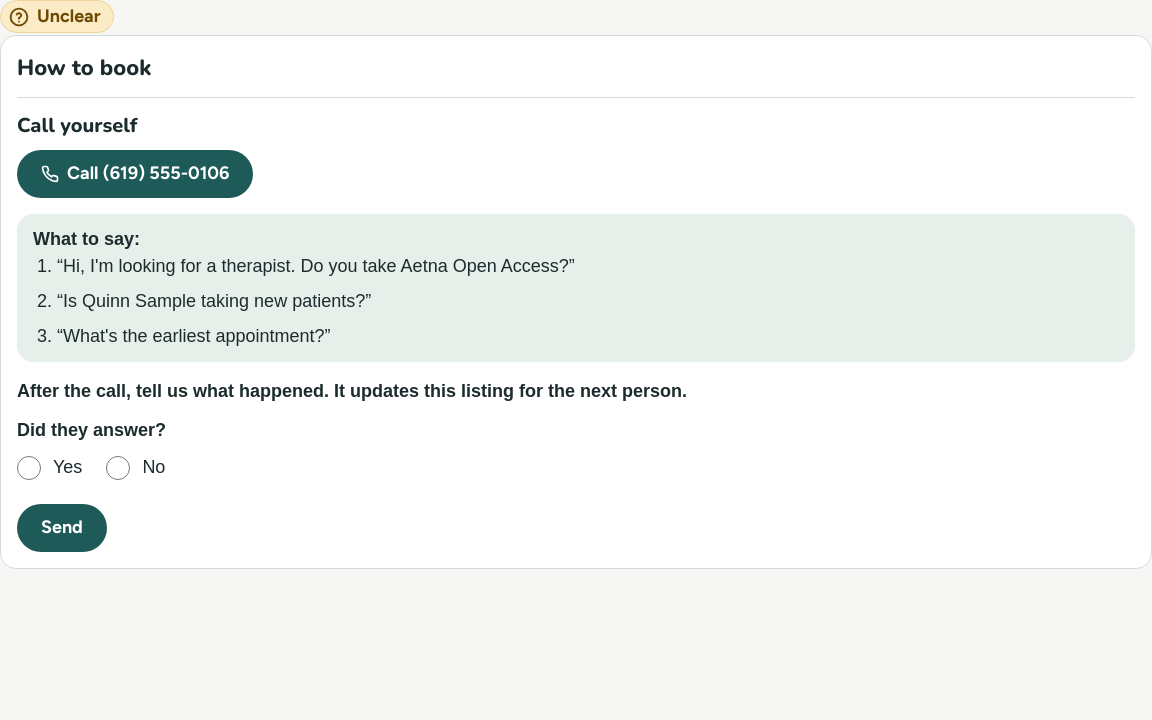
it: asks to wait after a second report inside a minute
Click the radio button labelled "No": (118, 468) [106,456,130,480]
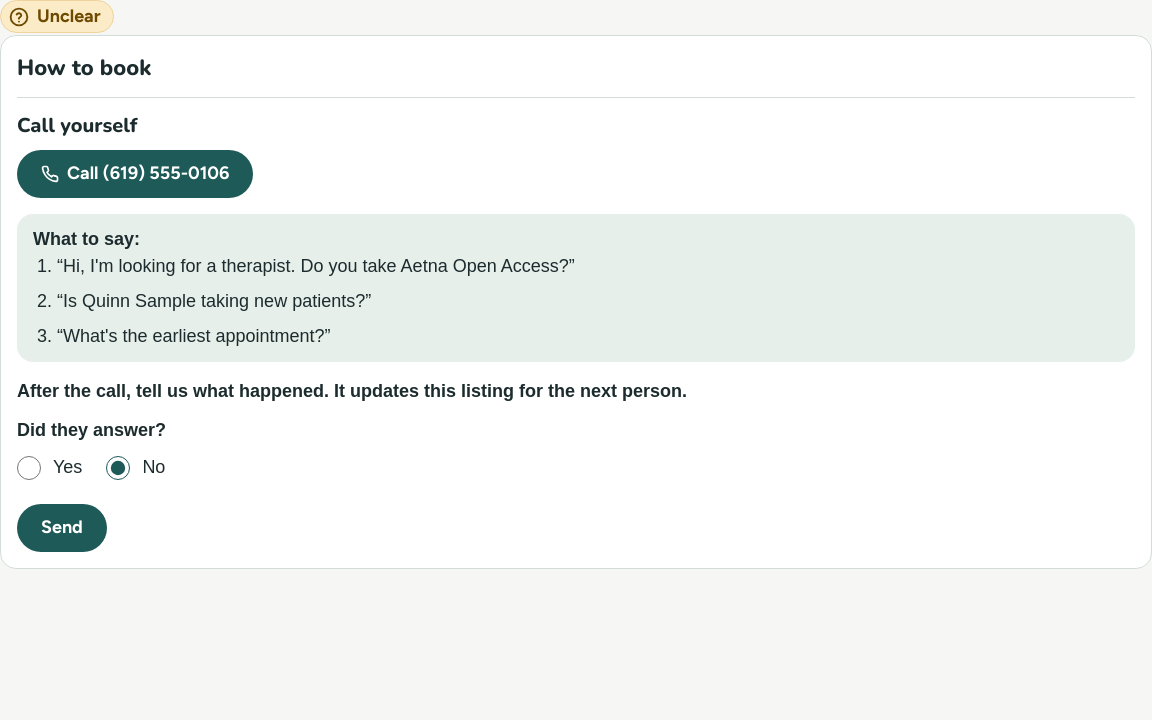
Click the button "Send": (62, 528) [17,504,107,552]
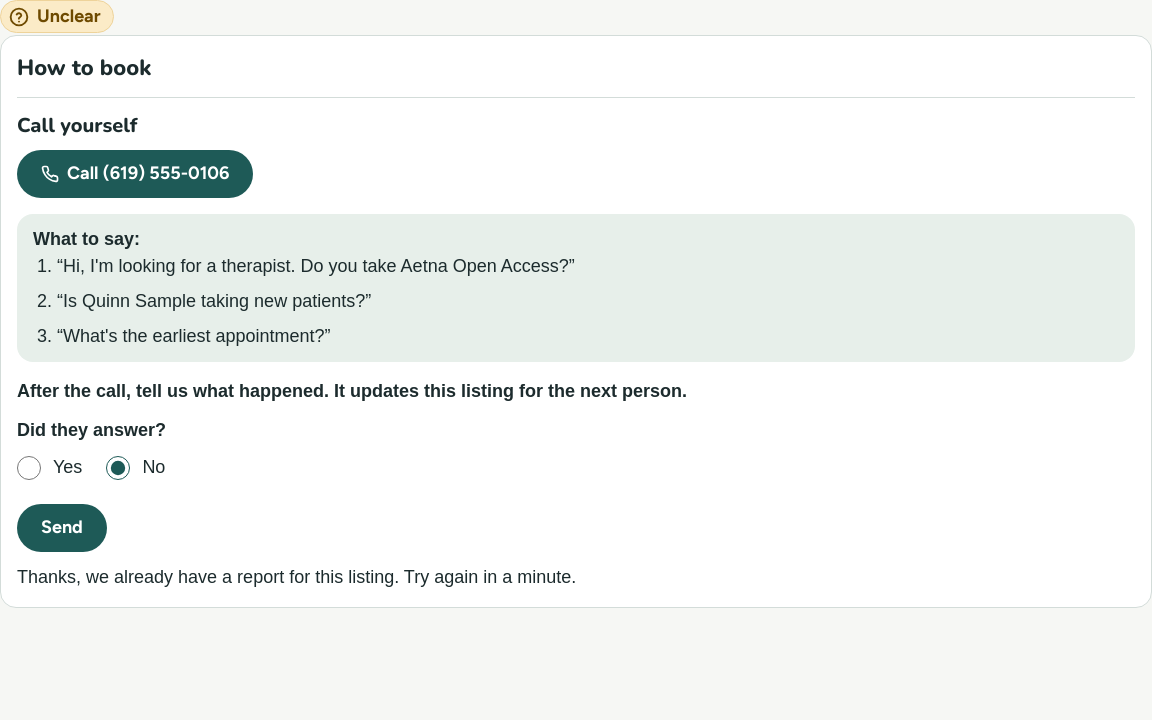
Expected: the text "Thanks, we already have a report for this listing. Try again in a minute." is shown, [17,567,576,587]
